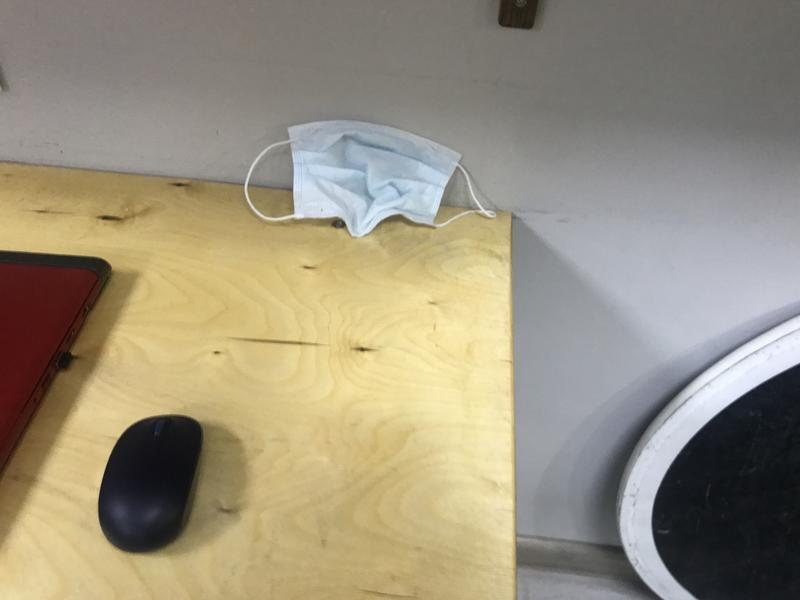medical_mask: (245, 119, 496, 239)
